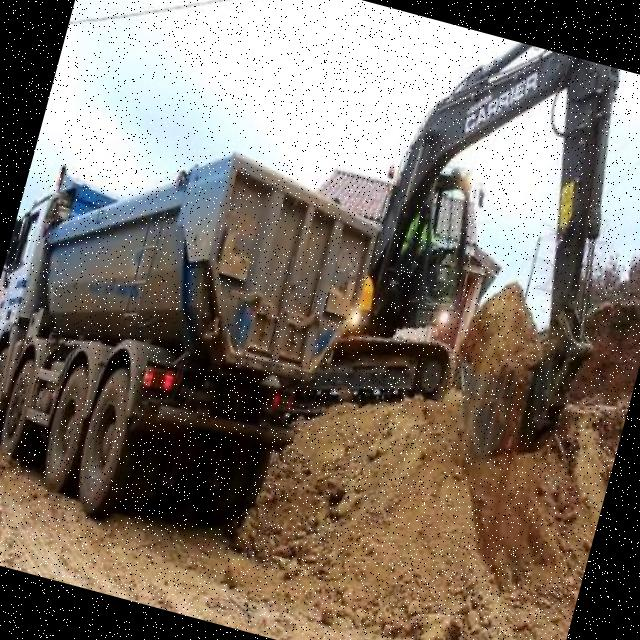Dump Truck: (0, 97, 392, 570)
Excavator: (274, 5, 640, 487)
